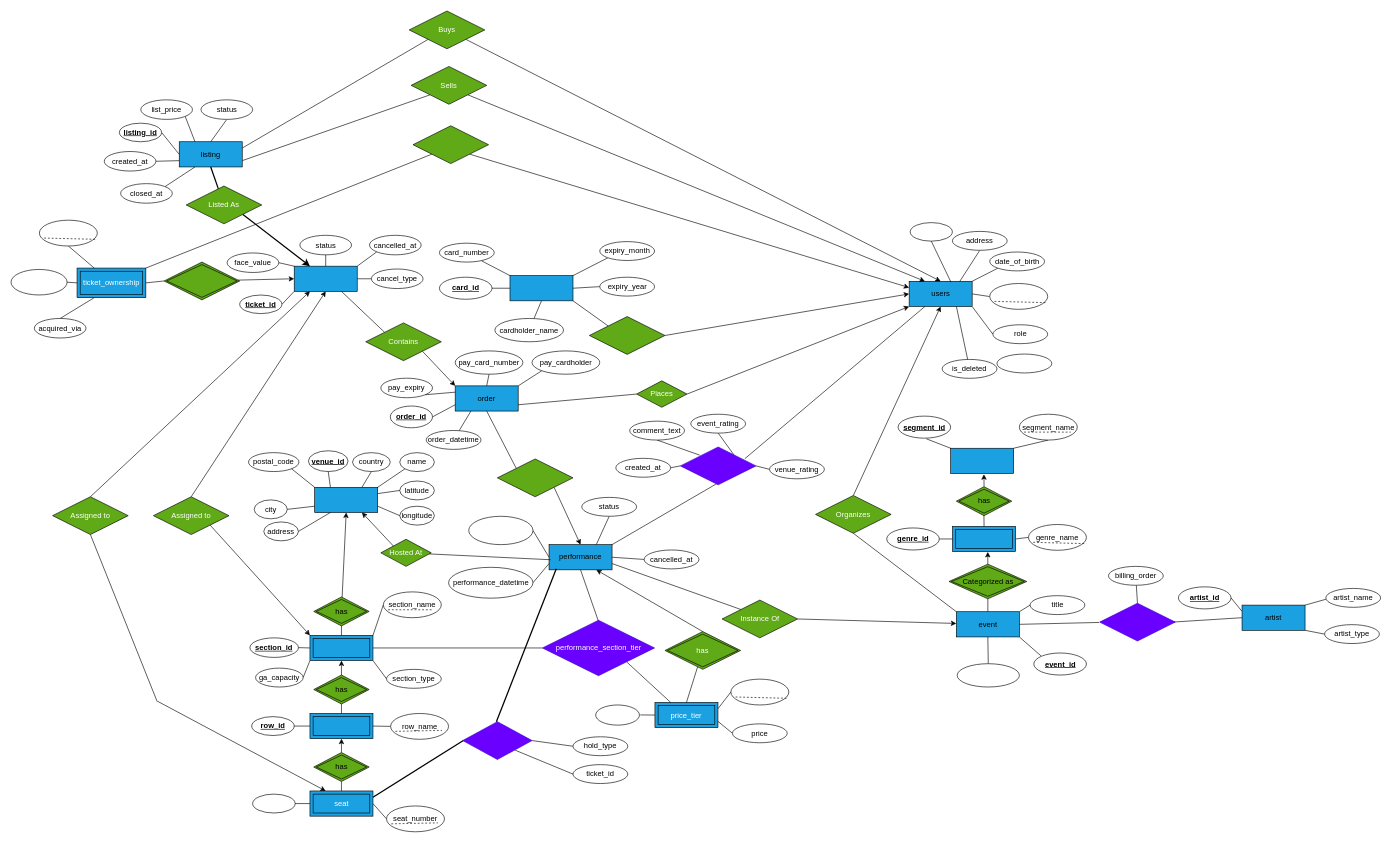
The diagram is 1392 pixels wide and 843 high, and some of its shapes have lost their labels. Each missing label, with the centre of its shape:
"acquired_at" belongs at (x=68, y=233).
"Books" belongs at (x=535, y=477).
"credit_card" belongs at (x=541, y=288).
"email" belongs at (x=1018, y=296).
"event_artist" belongs at (x=1137, y=622).
"full_name" belongs at (x=1024, y=363).
"genre" belongs at (x=984, y=539).
"Has history" belongs at (x=201, y=280).
"Holds" belongs at (x=450, y=144).
"ownership_id" belongs at (x=38, y=282).
"Owns" belongs at (x=627, y=335).
"performance_id" belongs at (x=500, y=530).
"resale_cap_pct" belongs at (x=988, y=675).
"review" belongs at (x=718, y=465).
"row" belongs at (x=341, y=726).
"seat_hold" belongs at (x=497, y=740).
"seat_id" belongs at (x=273, y=803).
"section" belongs at (x=341, y=648).
"segment" belongs at (x=982, y=460).
"ticket" belongs at (x=325, y=278).
"tier_code" belongs at (x=759, y=692).
"tier_id" belongs at (x=617, y=714).
"user_id" belongs at (x=931, y=231).
"venue" belongs at (x=346, y=500).
